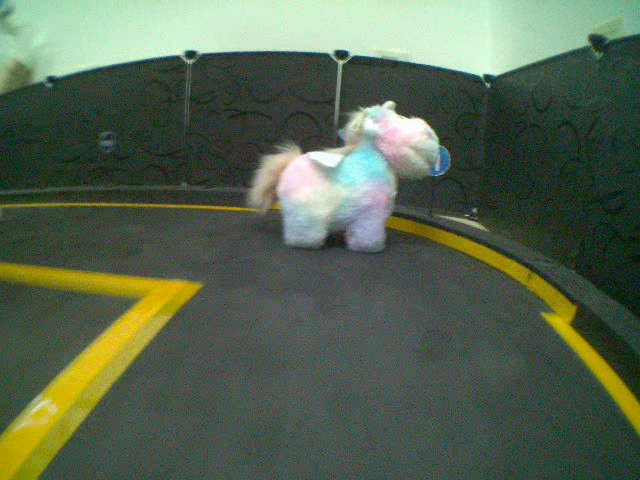unicorn: (248, 98, 442, 258)
